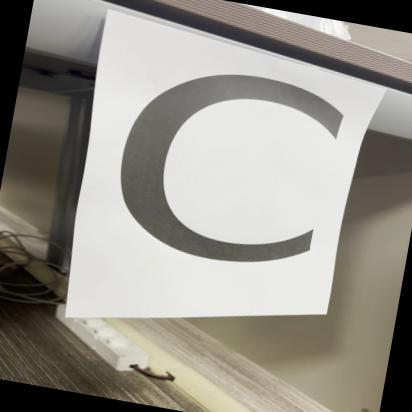seat: (48, 9, 386, 344)
